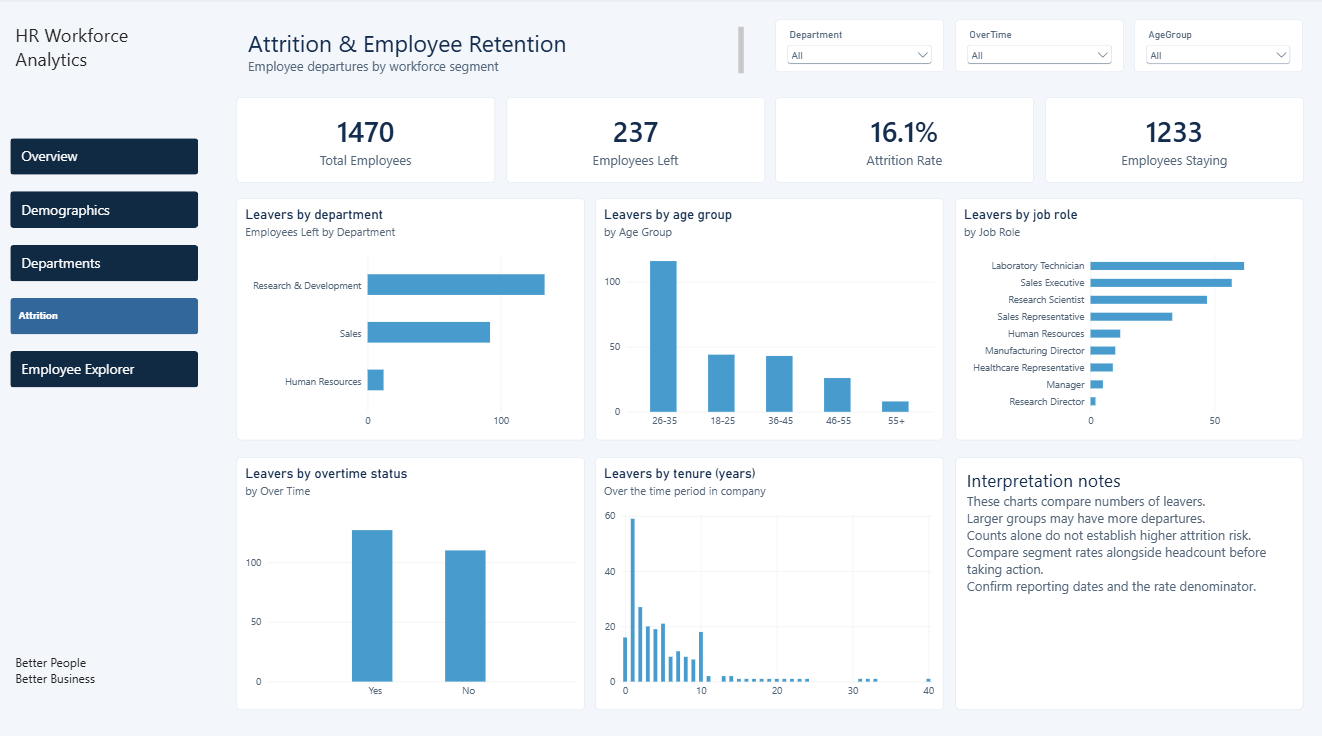

Layout of this report page (visuals, bound fields, positions):
{"tool":"powerbi","page":{"name":"Attrition","canvas":[1920,1080],"ordinal":3},"visuals":[{"type":"textbox","box":[0,0,304,1080],"z":-1000},{"type":"card","fields":{"Values":["Employees.Total Employees"]},"box":[344,144,374,124],"z":0},{"type":"card","fields":{"Values":["Employees.Employees Left"]},"box":[734,144,374,124],"z":1000},{"type":"card","fields":{"Values":["Employees.Employees Staying"]},"box":[1514,144,374,124],"z":2000},{"type":"card","fields":{"Values":["Employees.Attrition Rate"]},"box":[1124,144,374,124],"z":3000},{"type":"clusteredBarChart","title":"Leavers by department","fields":{"Category":["Employees.Department"],"Y":["Employees.Employees Left"]},"box":[344,292,504,350],"z":4000},{"type":"clusteredBarChart","title":"Leavers by job role","fields":{"Category":["Employees.JobRole"],"Y":["Employees.Employees Left"]},"box":[1384,292,504,350],"z":5000},{"type":"clusteredColumnChart","title":"Leavers by age group","fields":{"Category":["Employees.AgeGroup"],"Y":["Employees.Employees Left"]},"box":[864,292,504,350],"z":6000},{"type":"clusteredColumnChart","title":"Leavers by overtime status","fields":{"Category":["Employees.OverTime"],"Y":["Employees.Employees Left"]},"box":[344,666,504,366],"z":7000},{"type":"slicer","fields":{"Values":["Employees.Department"]},"box":[1124,32,244,76],"z":8000},{"type":"slicer","fields":{"Values":["Employees.OverTime"]},"box":[1384,32,244,76],"z":8000},{"type":"slicer","fields":{"Values":["Employees.AgeGroup"]},"box":[1644,32,244,76],"z":8000},{"type":"clusteredColumnChart","title":"Leavers by tenure (years)","fields":{"Category":["Employees.YearsAtCompany"],"Y":["Employees.Employees Left"]},"box":[864,666,504,366],"z":8000},{"type":"textbox","box":[344,28,750,100],"z":11000},{"type":"textbox","box":[1384,666,504,366],"z":12000},{"type":"textbox","box":[24,36,256,108],"z":20000},{"type":"pageNavigator","box":[16,204,272,364],"z":20000},{"type":"textbox","box":[24,952,256,104],"z":20000}]}

Visuals, with their boxes in screenshot pixels (x1, y1, x2, y2), scaled from the page's 1920x1080 canvas onto the 1322x736 screenshot:
textbox: (left=0, top=0, right=209, bottom=735)
card - Employees.Total Employees: (left=237, top=98, right=494, bottom=183)
card - Employees.Employees Left: (left=505, top=98, right=763, bottom=183)
card - Employees.Employees Staying: (left=1042, top=98, right=1300, bottom=183)
card - Employees.Attrition Rate: (left=774, top=98, right=1031, bottom=183)
"Leavers by department" clusteredBarChart: (left=237, top=199, right=584, bottom=438)
"Leavers by job role" clusteredBarChart: (left=953, top=199, right=1300, bottom=438)
"Leavers by age group" clusteredColumnChart: (left=595, top=199, right=942, bottom=438)
"Leavers by overtime status" clusteredColumnChart: (left=237, top=454, right=584, bottom=703)
slicer - Employees.Department: (left=774, top=22, right=942, bottom=74)
slicer - Employees.OverTime: (left=953, top=22, right=1121, bottom=74)
slicer - Employees.AgeGroup: (left=1132, top=22, right=1300, bottom=74)
"Leavers by tenure (years)" clusteredColumnChart: (left=595, top=454, right=942, bottom=703)
textbox: (left=237, top=19, right=753, bottom=87)
textbox: (left=953, top=454, right=1300, bottom=703)
textbox: (left=17, top=25, right=193, bottom=98)
pageNavigator: (left=11, top=139, right=198, bottom=387)
textbox: (left=17, top=649, right=193, bottom=720)
